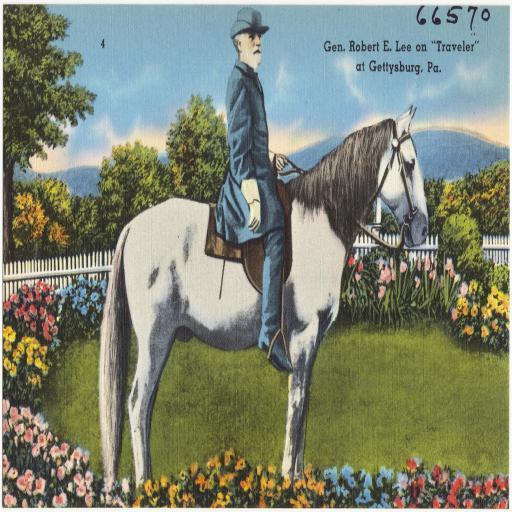horse: (91, 100, 432, 494)
